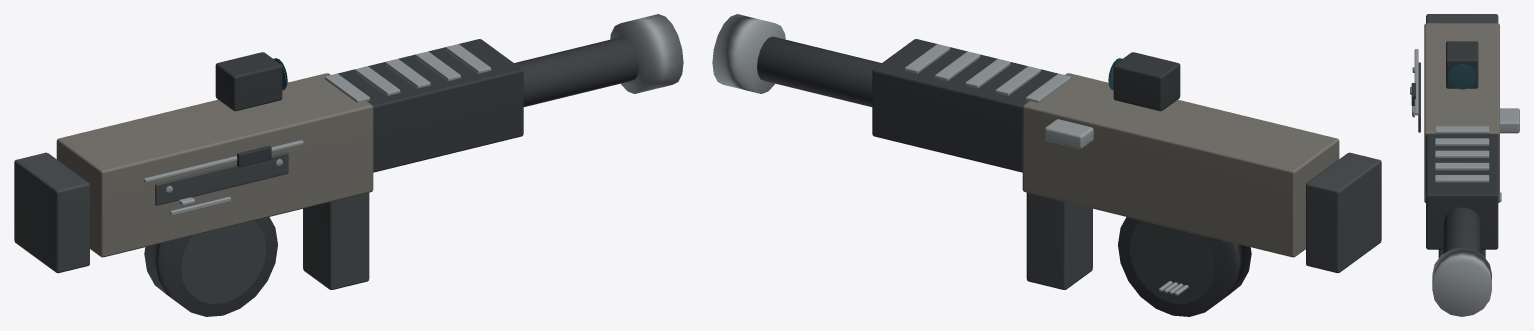
File: flak-reload.glb
3 renders of one model, left to right at view 1: azimuth 30°, elevation 25°; view 2: azimuth 150°, elevation 25°; view 3: azimuth 270°, elevation 25°, orthographic. The views are drawn at different scales.
Parts seen in each view (by area): view 1: Bullpup scattergun receiver, Perforated heat shield, Armoured butt pad, Forward grip, Drum cover.001, Large bore barrel, Ribbed drum, Muzzle bell, Compact optic, Inset receiver side panel, Machined receiver seam, Top vent.002 (+5 smaller); view 2: Bullpup scattergun receiver, Perforated heat shield, Armoured butt pad, Forward grip, Large bore barrel, Drum cover, Ribbed drum, Muzzle bell, Compact optic, Action lever, Top vent.002, Top vent.001 (+3 smaller); view 3: Bullpup scattergun receiver, Perforated heat shield, Muzzle bell, Large bore barrel, Compact optic, Armoured butt pad, Sight glass, Action lever, Top vent.002, Top vent.003, Top vent.001, Top vent (+4 smaller).
Boxes of the visible parts, x1=… form: Bullpup scattergun receiver: x1=56, y1=73, x2=373, y2=257; Perforated heat shield: x1=338, y1=39, x2=523, y2=172; Armoured butt pad: x1=14, y1=152, x2=89, y2=273; Forward grip: x1=303, y1=192, x2=369, y2=289; Drum cover.001: x1=181, y1=221, x2=266, y2=304; Large bore barrel: x1=514, y1=36, x2=638, y2=106; Ribbed drum: x1=144, y1=217, x2=277, y2=316; Muzzle bell: x1=610, y1=14, x2=683, y2=93; Compact optic: x1=215, y1=52, x2=282, y2=111; Inset receiver side panel: x1=155, y1=152, x2=288, y2=205; Machined receiver seam: x1=143, y1=140, x2=303, y2=182; Top vent.002: x1=385, y1=59, x2=430, y2=88; Bullpup scattergun receiver: x1=1022, y1=73, x2=1339, y2=257; Perforated heat shield: x1=872, y1=39, x2=1057, y2=172; Armoured butt pad: x1=1306, y1=152, x2=1381, y2=273; Forward grip: x1=1026, y1=192, x2=1092, y2=289; Large bore barrel: x1=757, y1=36, x2=881, y2=106; Drum cover: x1=1129, y1=221, x2=1214, y2=304; Ribbed drum: x1=1118, y1=217, x2=1251, y2=316; Muzzle bell: x1=712, y1=14, x2=785, y2=93; Compact optic: x1=1113, y1=52, x2=1180, y2=111; Action lever: x1=1045, y1=119, x2=1093, y2=148; Top vent.002: x1=965, y1=59, x2=1010, y2=88; Top vent.001: x1=995, y1=66, x2=1040, y2=95; Bullpup scattergun receiver: x1=1424, y1=23, x2=1499, y2=202; Perforated heat shield: x1=1426, y1=134, x2=1498, y2=249; Muzzle bell: x1=1432, y1=247, x2=1491, y2=316; Large bore barrel: x1=1443, y1=207, x2=1480, y2=253; Compact optic: x1=1446, y1=41, x2=1478, y2=88; Armoured butt pad: x1=1426, y1=14, x2=1498, y2=23; Sight glass: x1=1448, y1=63, x2=1475, y2=89; Action lever: x1=1500, y1=108, x2=1519, y2=133; Top vent.002: x1=1435, y1=150, x2=1489, y2=158; Top vent.003: x1=1435, y1=162, x2=1489, y2=170; Top vent.001: x1=1435, y1=138, x2=1489, y2=145; Top vent: x1=1435, y1=126, x2=1489, y2=133.
Size of the model in its own units: 1.66 by 0.59 by 0.3045.
